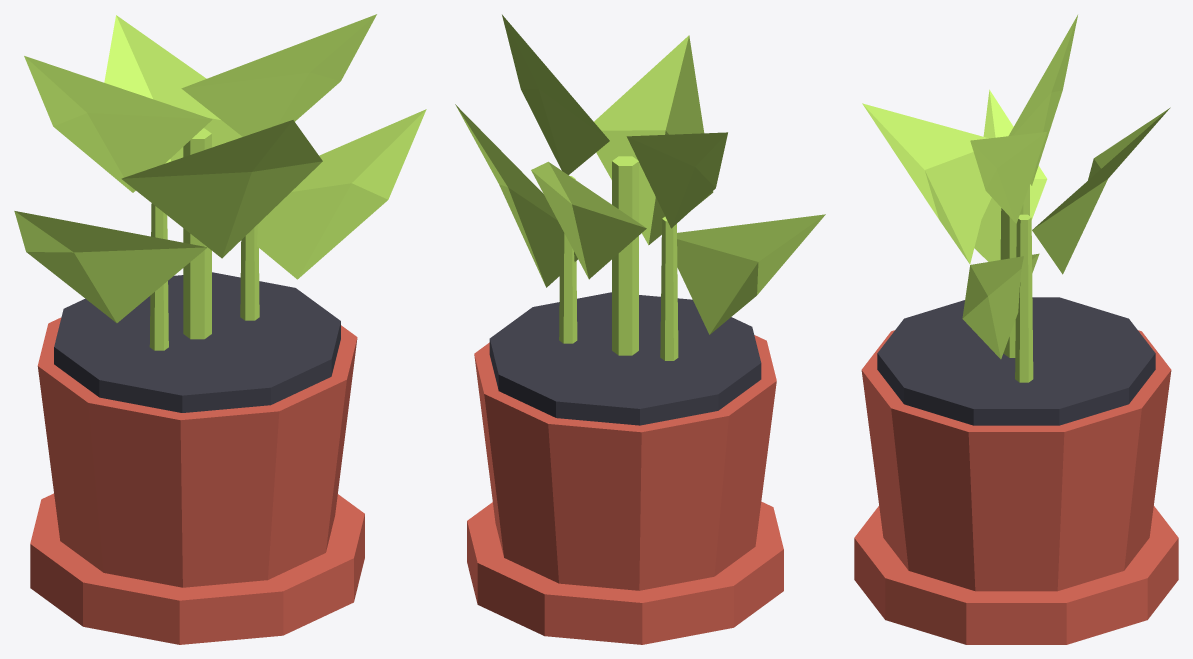
File: plant.obj
3 views of the same model, side by side, from view 1: azimuth 30°, elevation 25°; view 2: azimuth 150°, elevation 25°; view 3: azimuth 270°, elevation 25° (orthographic). The views are drawn at different scales.
Parts seen in each view (by area): view 1: tapered_clay_pot, soil_disk, faceted_saucer, leaf_front, leaf_right_low, leaf_left_high, leaf_left_low, leaf_right_high, leaf_back, main_stem, side_stem_left, side_stem_right; view 2: tapered_clay_pot, soil_disk, faceted_saucer, leaf_left_low, leaf_front, leaf_left_high, leaf_right_high, leaf_back, leaf_right_low, main_stem, side_stem_left, side_stem_right; view 3: tapered_clay_pot, soil_disk, faceted_saucer, leaf_front, leaf_back, leaf_right_low, leaf_right_high, leaf_left_high, leaf_left_low, side_stem_right, main_stem.
Part boxes in pixels (x1,y1,x2,y2): tapered_clay_pot: (37,317,357,587); soil_disk: (54,272,340,412); faceted_saucer: (30,493,364,644); leaf_front: (121,120,322,258); leaf_right_low: (257,109,426,279); leaf_left_high: (24,56,212,192); leaf_left_low: (14,211,207,322); leaf_right_high: (181,14,376,136); leaf_back: (104,15,242,163); main_stem: (183,128,211,339); side_stem_left: (149,203,168,350); side_stem_right: (240,224,259,320); tapered_clay_pot: (474,335,776,590); soil_disk: (489,292,761,425); faceted_saucer: (467,501,783,644); leaf_left_low: (677,214,825,334); leaf_front: (594,35,713,245); leaf_left_high: (626,132,727,228); leaf_right_high: (502,14,609,174); leaf_back: (531,161,646,279); leaf_right_low: (455,104,577,287); main_stem: (612,156,638,355); side_stem_left: (660,216,678,360); side_stem_right: (559,176,577,343); tapered_clay_pot: (861,330,1171,591); soil_disk: (877,297,1155,425); faceted_saucer: (854,505,1178,644); leaf_front: (862,103,988,264); leaf_back: (1032,107,1170,274); leaf_right_low: (962,253,1039,359); leaf_right_high: (970,132,1046,223); leaf_left_high: (1008,15,1077,185); leaf_left_low: (974,89,1047,261); side_stem_right: (1015,214,1033,382); main_stem: (1003,184,1029,357).
Size of the model in its own units: 1.14 by 1.46 by 0.84.
